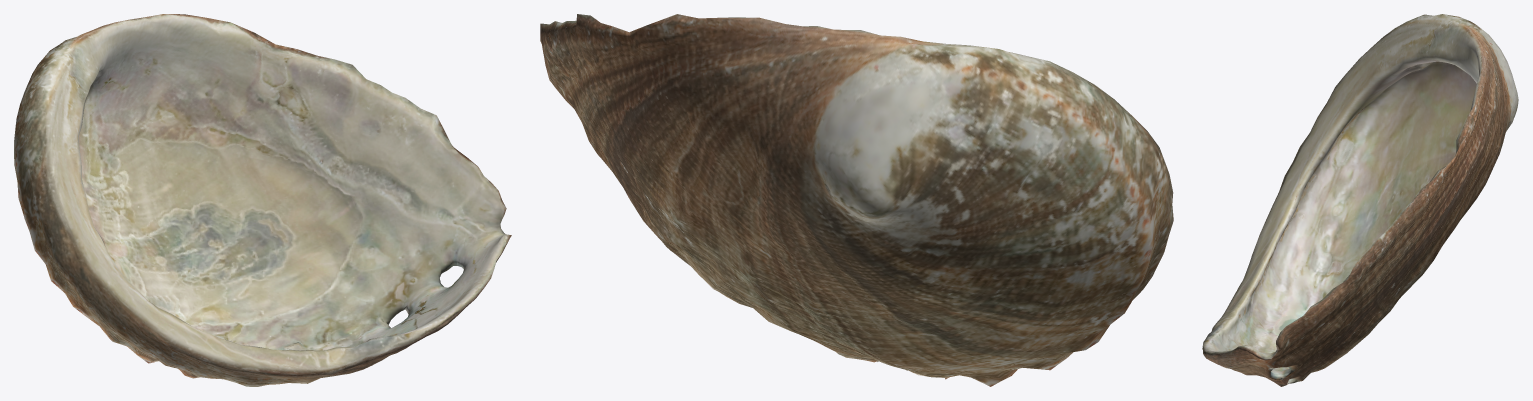
The model's file is IridescenceAbalone.glb.
3 renders of one model, left to right at view 1: azimuth 30°, elevation 25°; view 2: azimuth 150°, elevation 25°; view 3: azimuth 270°, elevation 25°, orthographic. The views are drawn at different scales.
Visible parts, largest first — view 1: IridescenceAbalone; view 2: IridescenceAbalone; view 3: IridescenceAbalone.
Boxes of the visible parts, box(x1,y1,x2,y2) form: IridescenceAbalone: box(14, 14, 511, 386); IridescenceAbalone: box(540, 14, 1173, 386); IridescenceAbalone: box(1202, 14, 1518, 386).
Bounding box in the file's own units: 0.2321 × 0.1556 × 0.1584.
Materials: 1 (1 with a texture image).
